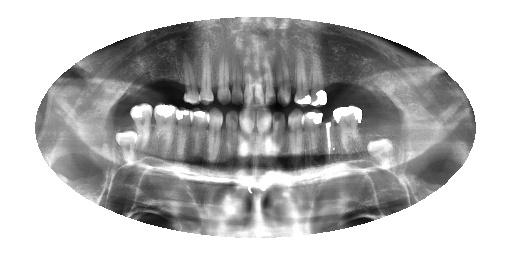i10healthy: (221, 101, 240, 177)
i11healthy: (203, 102, 225, 167)
i12healthy: (187, 100, 214, 167)
i13healthy: (171, 101, 196, 174)
i14healthy: (153, 97, 179, 165)
i15healthy: (127, 97, 159, 164)
i16healthy: (111, 127, 143, 167)
i1healthy: (362, 134, 413, 189)
i2loss: (359, 108, 387, 148)
i3healthy: (331, 101, 367, 168)
i4chipped: (318, 109, 340, 169)
i5healthy: (299, 103, 328, 171)
i6healthy: (286, 99, 308, 169)
i7decay: (269, 106, 290, 169)
i8healthy: (255, 103, 272, 168)
i9healthy: (236, 100, 258, 172)
u10healthy: (228, 51, 248, 110)
u11healthy: (213, 47, 236, 108)
u12decay: (196, 49, 220, 110)
u13decay: (176, 40, 206, 111)
u4healthy: (308, 48, 330, 111)
u5healthy: (289, 47, 313, 109)
u6healthy: (271, 46, 296, 112)
u7healthy: (261, 44, 278, 109)
u8healthy: (251, 48, 268, 111)
u9healthy: (239, 45, 257, 110)
